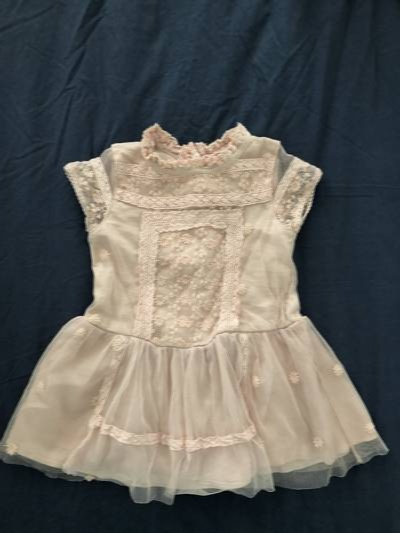Dress: (1, 115, 388, 508)
